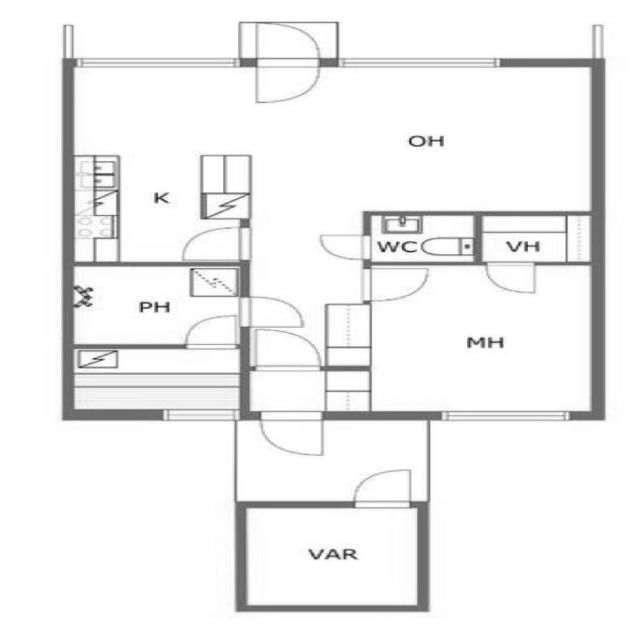door: (247, 20, 323, 106), (255, 410, 329, 460), (342, 464, 419, 511), (247, 326, 324, 372), (171, 222, 256, 263), (356, 264, 435, 304), (236, 293, 308, 331), (175, 311, 244, 350), (314, 231, 381, 264), (482, 260, 539, 298)
window: (64, 346, 248, 416), (330, 52, 510, 72), (77, 52, 239, 71), (426, 406, 582, 423), (148, 406, 244, 424)
zone: (211, 63, 604, 215), (364, 262, 598, 416), (72, 67, 251, 267), (236, 504, 424, 609), (64, 262, 247, 348), (69, 344, 246, 416), (364, 212, 477, 266), (478, 214, 599, 260)
